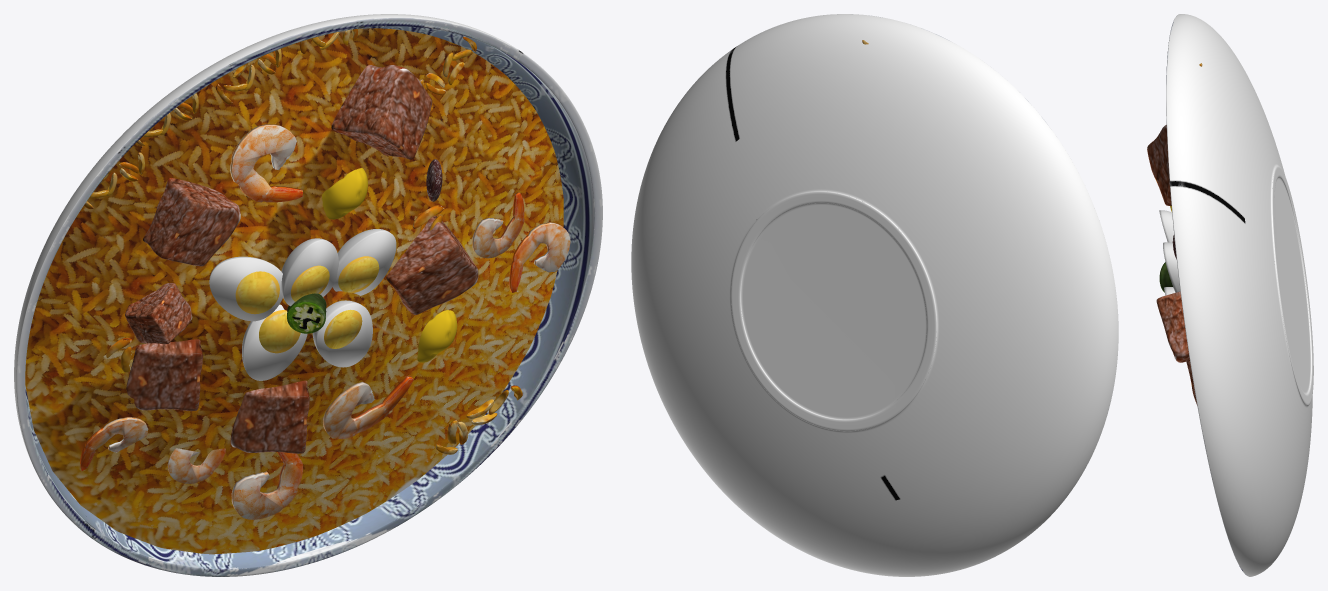
File: jumbo_mixed.glb
3 renders of one model, left to right at view 1: azimuth 30°, elevation 25°; view 2: azimuth 150°, elevation 25°; view 3: azimuth 270°, elevation 25°, orthographic. The views are drawn at different scales.
Visible parts, largest first — view 1: Cone, Kugel.005, Cube.005, Cube.007, Cube.004, Cube.008, Cube.006, Sphere.005, Vert.001, Sphere, Sphere.001, Sphere.006 (+14 smaller); view 2: Kugel.005; view 3: Kugel.005, Cube.004, Cube.005, Sphere.001, Sphere.007, Cylinder.003.
Part boxes in pixels (x1,y1,x2,y2): Cone: [25, 28, 563, 554]; Kugel.005: [14, 14, 602, 576]; Cube.005: [331, 65, 432, 159]; Cube.007: [143, 178, 240, 266]; Cube.004: [386, 215, 478, 314]; Cube.008: [126, 339, 202, 411]; Cube.006: [230, 380, 309, 453]; Sphere.005: [209, 256, 282, 321]; Vert.001: [230, 124, 302, 202]; Sphere: [242, 304, 307, 380]; Sphere.001: [332, 229, 396, 295]; Sphere.006: [312, 300, 372, 367]; Kugel.005: [631, 14, 1118, 576]; Kugel.005: [1166, 14, 1313, 576]; Cube.004: [1156, 291, 1189, 362]; Cube.005: [1147, 125, 1171, 205]; Sphere.001: [1163, 242, 1180, 292]; Sphere.007: [1159, 210, 1173, 242]; Cylinder.003: [1159, 262, 1172, 292].
Size of the model in its own units: 10.1 by 9.97 by 2.97.
38 materials, 31 textured.
